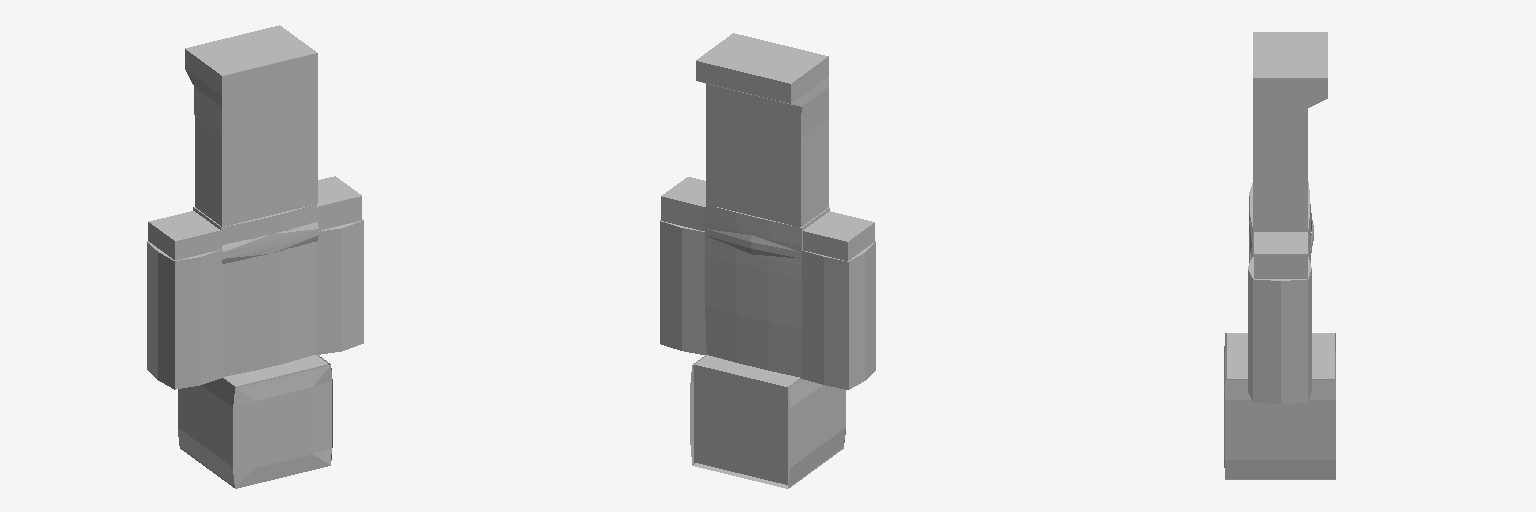
File: stalker.kyrtka.obj
The picture shows the model from 3 angles: view 1: azimuth 30°, elevation 25°; view 2: azimuth 150°, elevation 25°; view 3: azimuth 270°, elevation 25°; orthographic projection.
Parts seen in each view (by area): view 1: headModel, bodyModel, rightLegModel, rightArmModel, leftLegModel, leftArmModel, rightArmModelTemp, leftArmModelTemp, headModelTemp; view 2: bodyModel, rightLegModel, headModelTemp, rightArmModel, leftLegModel, leftArmModel, headModel, rightArmModelTemp, leftArmModelTemp; view 3: leftLegModel, headModel, leftArmModel, leftArmModelTemp, headModelTemp, rightLegModel, bodyModel.
Boxes of the visible parts, <box> form: headModel: <box>178,355,332,488</box>; bodyModel: <box>193,204,318,377</box>; rightLegModel: <box>185,37,269,226</box>; rightArmModel: <box>147,241,221,389</box>; leftLegModel: <box>233,25,317,214</box>; leftArmModel: <box>316,219,363,354</box>; rightArmModelTemp: <box>148,211,220,260</box>; leftArmModelTemp: <box>317,176,361,230</box>; headModelTemp: <box>222,355,328,387</box>; bodyModel: <box>705,205,829,377</box>; rightLegModel: <box>744,45,828,226</box>; headModelTemp: <box>694,355,800,484</box>; rightArmModel: <box>801,241,875,389</box>; leftLegModel: <box>696,33,779,215</box>; leftArmModel: <box>660,220,706,354</box>; headModel: <box>690,355,845,488</box>; rightArmModelTemp: <box>803,211,874,260</box>; leftArmModelTemp: <box>661,177,705,230</box>; leftLegModel: <box>1253,55,1327,228</box>; headModel: <box>1224,333,1335,479</box>; leftArmModel: <box>1248,257,1311,403</box>; leftArmModelTemp: <box>1254,232,1307,278</box>; headModelTemp: <box>1227,333,1334,379</box>; rightLegModel: <box>1253,32,1327,54</box>; bodyModel: <box>1249,182,1313,262</box>.
Bounding box in the file's own units: 16.63 × 32.75 × 8.29.